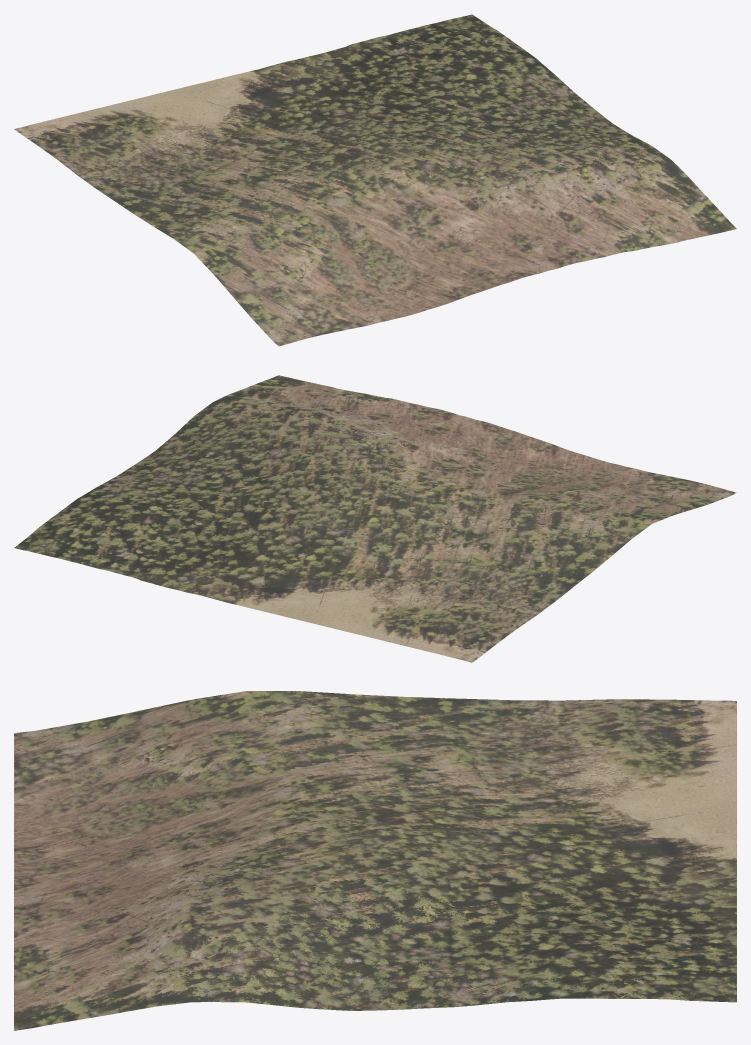
File: CM_Terrain_24493326_6816312.fbx
3 views of the same model, one above another, from view 1: azimuth 30°, elevation 25°; view 2: azimuth 150°, elevation 25°; view 3: azimuth 270°, elevation 25° (orthographic). The views are drawn at different scales.
Visible parts, largest first — view 1: CM_Terrain_24493326_6816312_LOD0; view 2: CM_Terrain_24493326_6816312_LOD0; view 3: CM_Terrain_24493326_6816312_LOD0.
Part boxes in pixels (x1,y1,x2,y2): CM_Terrain_24493326_6816312_LOD0: (14, 14, 736, 346); CM_Terrain_24493326_6816312_LOD0: (14, 375, 736, 662); CM_Terrain_24493326_6816312_LOD0: (14, 691, 736, 1030).
Size of what is drawn, in the model's own units: 205 by 18.97 by 205.
